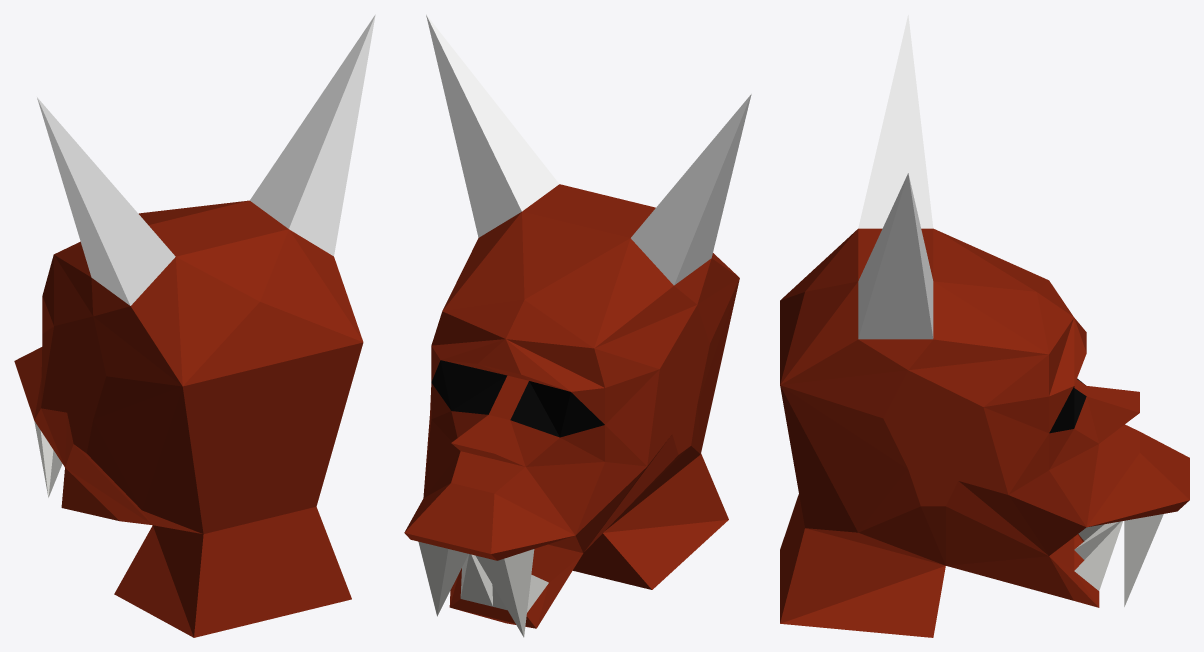
The model's file is itm_model_headAm_red_halloween_mask.obj.
3 renders of one model, left to right at view 1: azimuth 30°, elevation 25°; view 2: azimuth 150°, elevation 25°; view 3: azimuth 270°, elevation 25°, orthographic. The views are drawn at different scales.
Bounding box in the file's own units: 0.9375 × 1.4 × 1.02.
